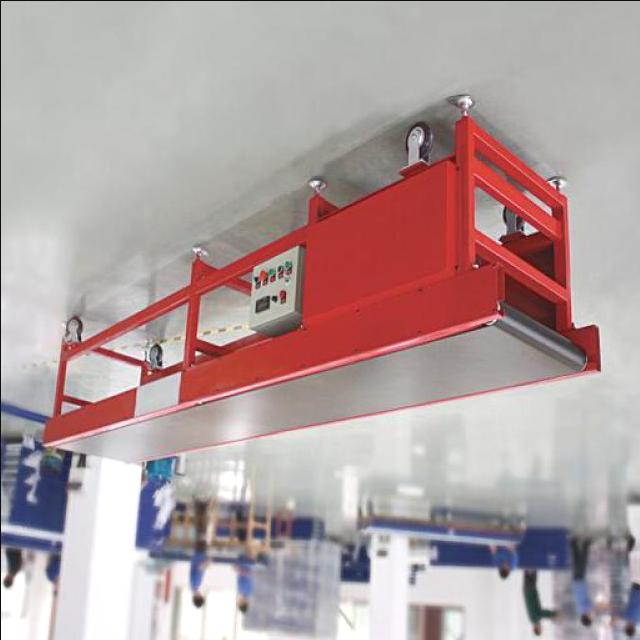conveyor: (58, 304, 592, 466)
